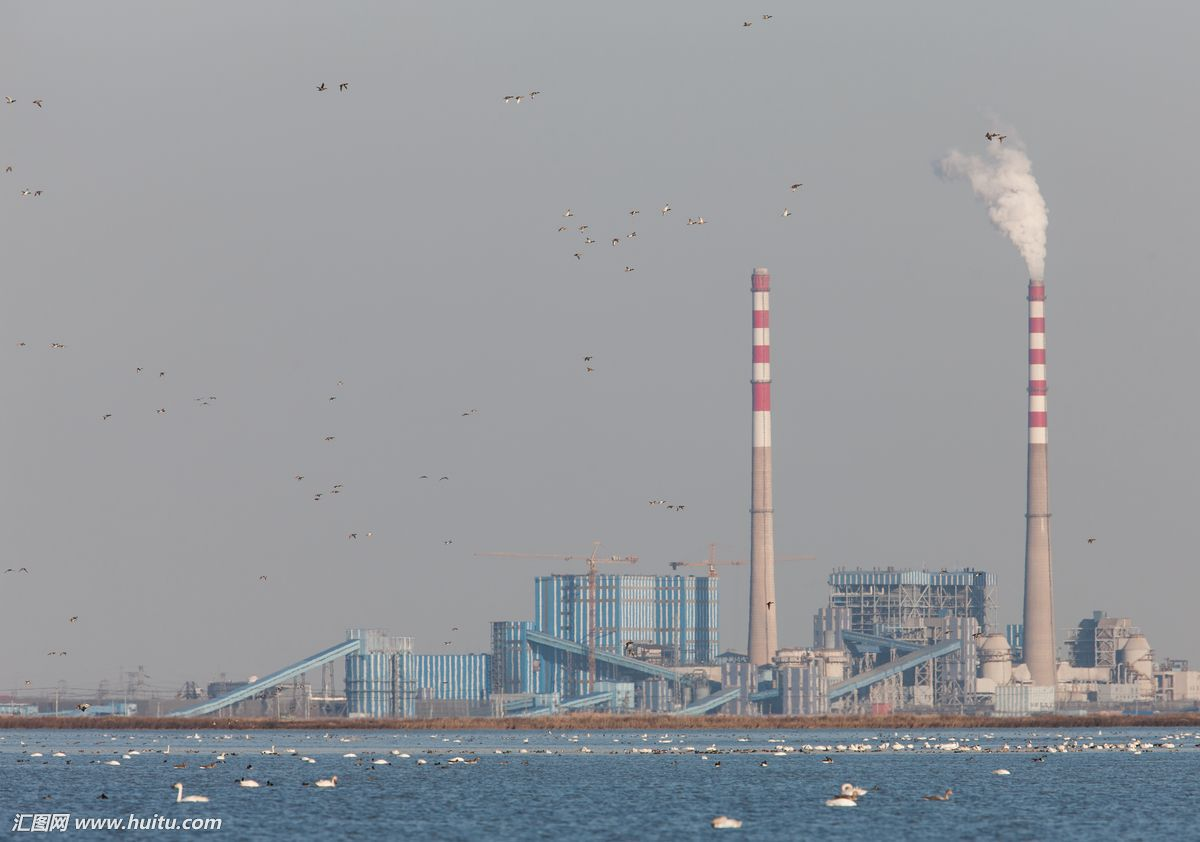dust: (954, 117, 1087, 283)
